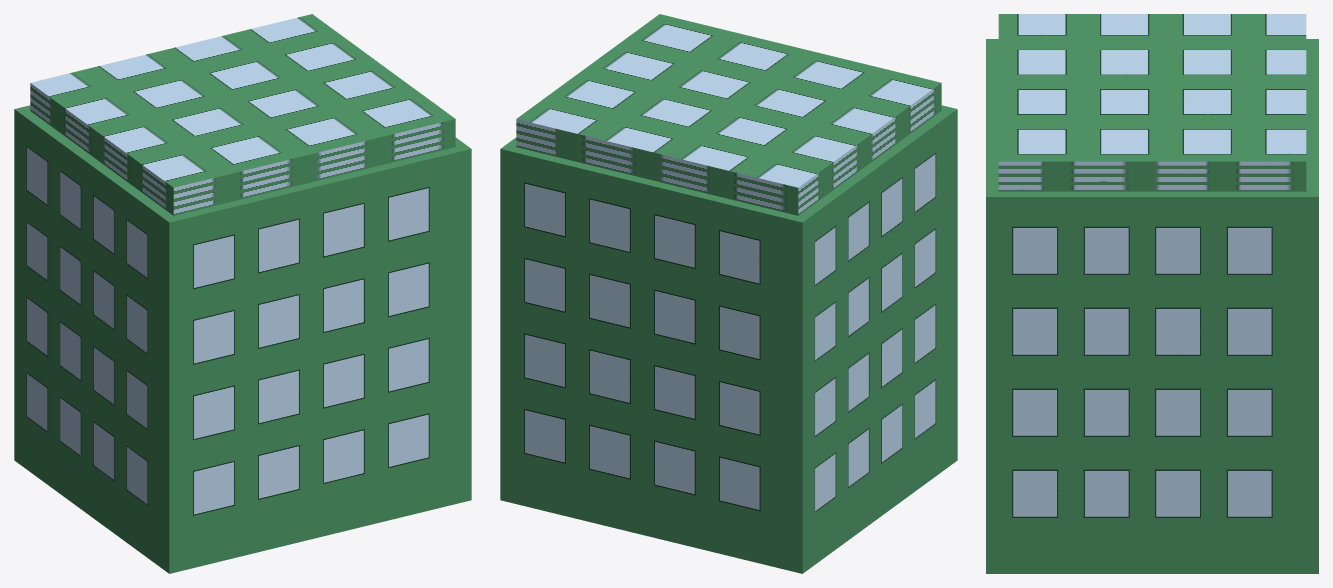
Rendered from building_intact.glb.
The picture shows the model from 3 angles, left to right: view 1: azimuth 30°, elevation 25°; view 2: azimuth 150°, elevation 25°; view 3: azimuth 270°, elevation 25°; orthographic projection. The views are drawn at different scales.
Visible parts, largest first — view 1: DamageModel; view 2: DamageModel; view 3: DamageModel.
Boxes of the visible parts, left/top/right/bottom form: DamageModel: left=14, top=14, right=471, bottom=573; DamageModel: left=500, top=14, right=957, bottom=573; DamageModel: left=986, top=14, right=1318, bottom=573.
Bounding box in the file's own units: 9 × 10.8 × 8.
1 material, 1 textured.
